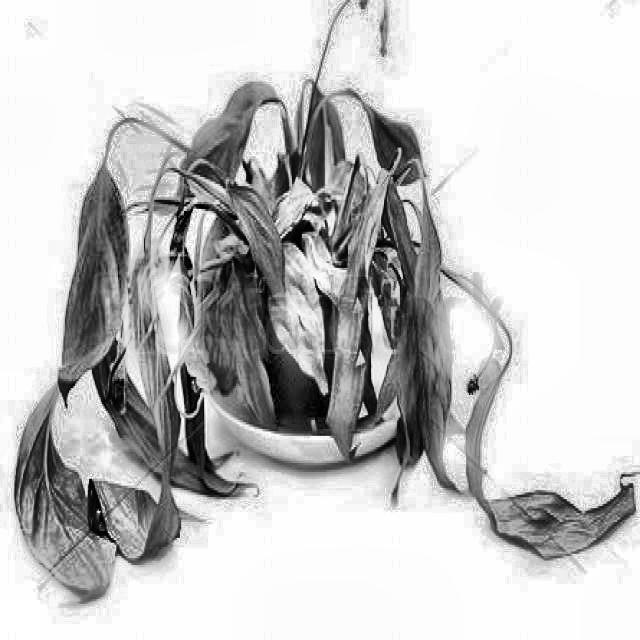plants: (24, 73, 626, 576)
